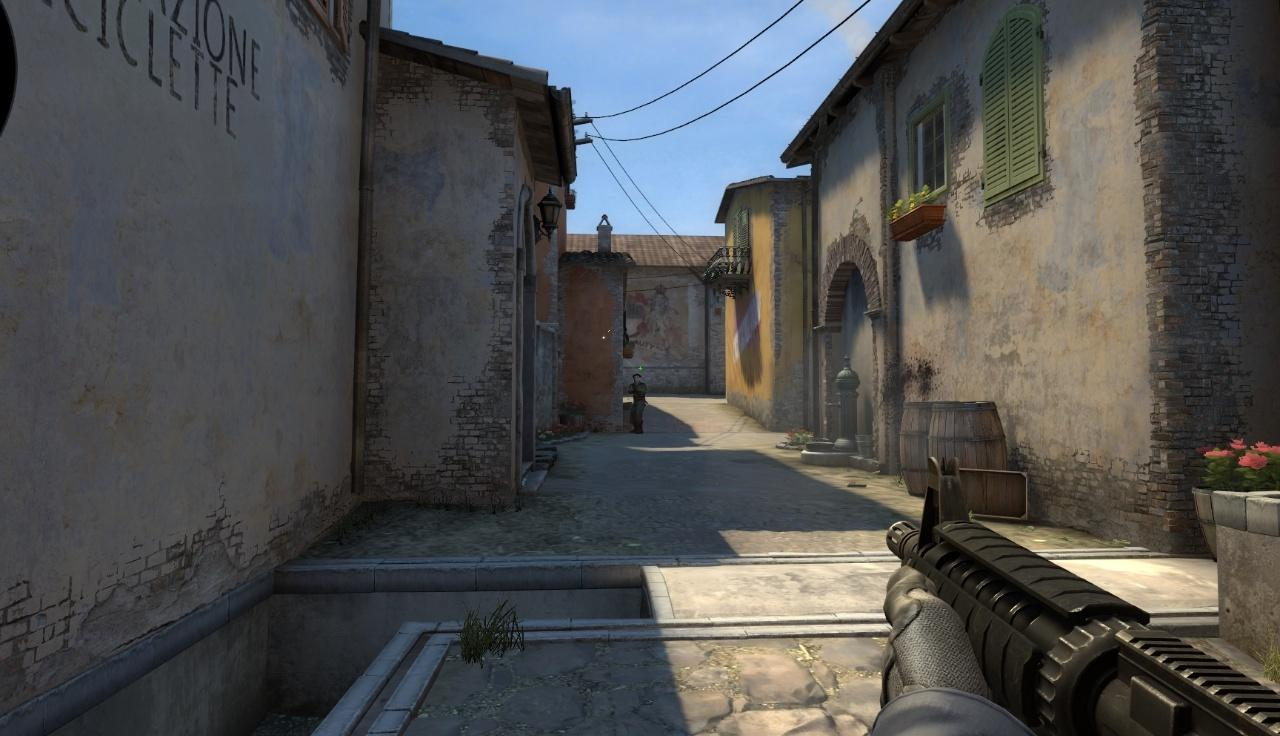rifle: (884, 461, 1280, 736)
tt: (628, 373, 646, 434)
tthead: (632, 374, 641, 385)
